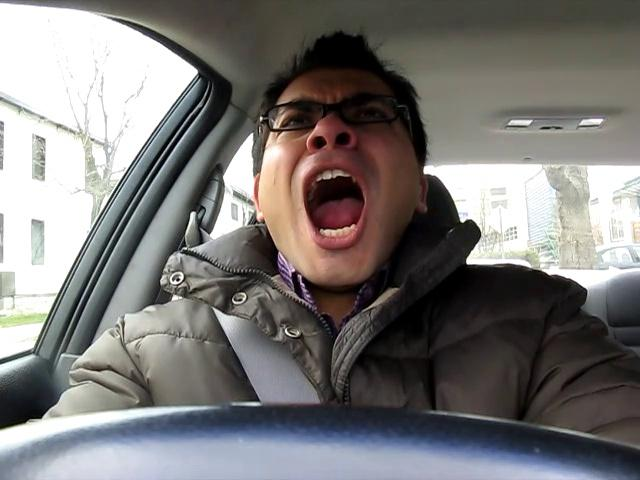open_eyeL: (265, 107, 327, 142)
open_eyeR: (334, 96, 412, 137)
yawn: (280, 156, 387, 255)
